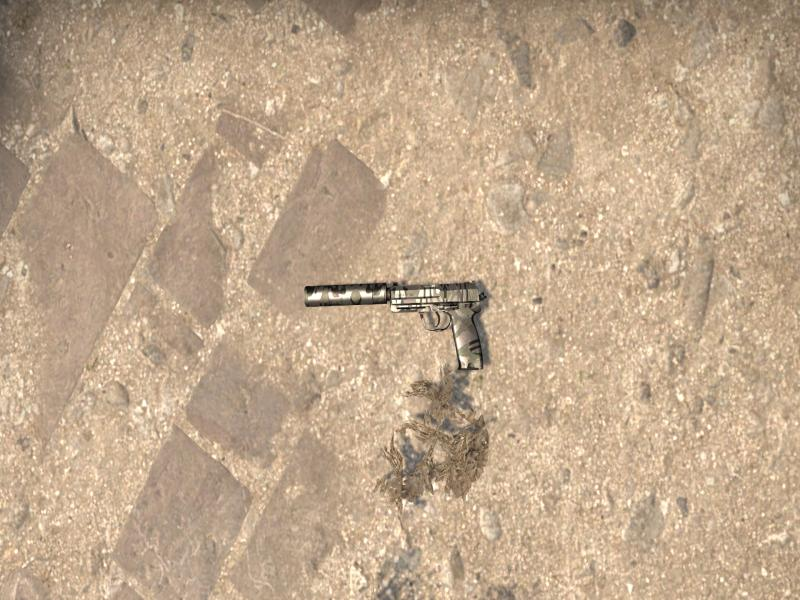USP: (304, 281, 486, 371)
